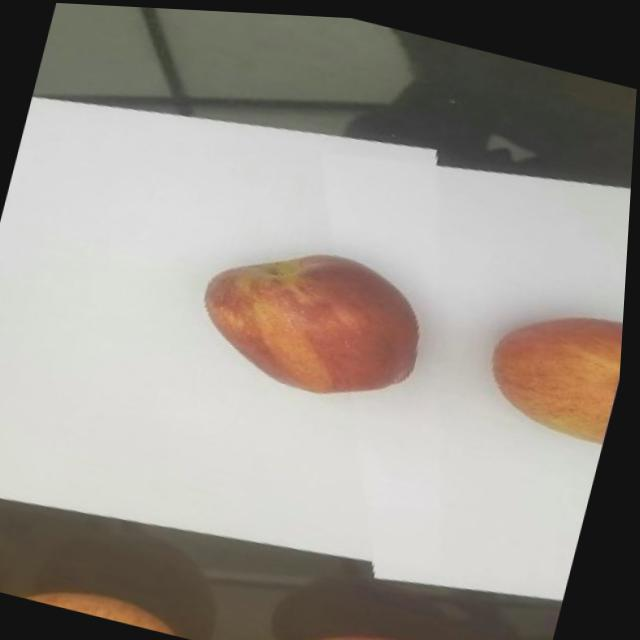Apple: (191, 223, 443, 411), (33, 576, 190, 633), (286, 608, 513, 640)
